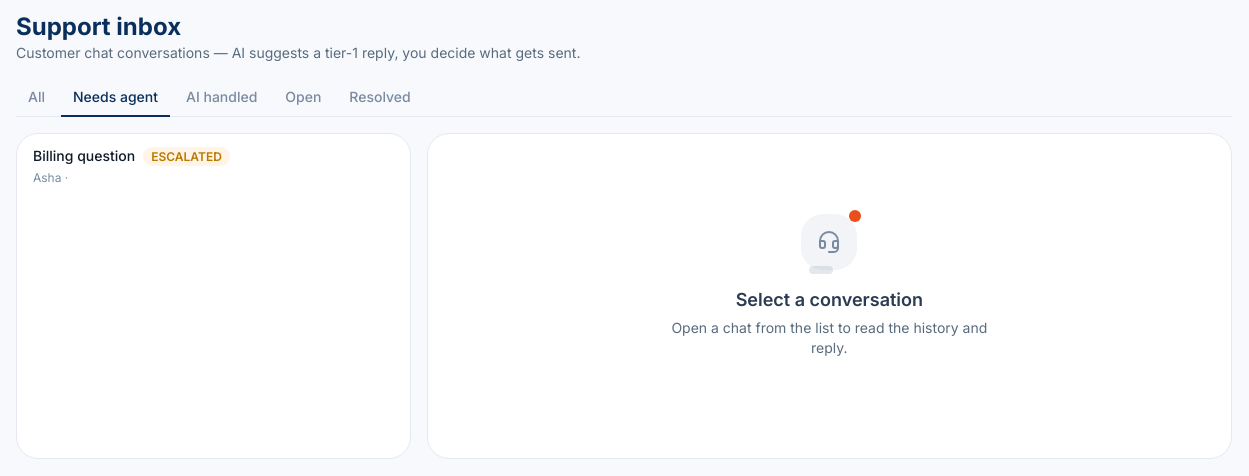
Test: SupportInboxView › shows no review panel when there is nothing waiting
The width and height of the screenshot is (1249, 476).
Click the text "Billing question" at (84, 156), box [33,146,135,166]
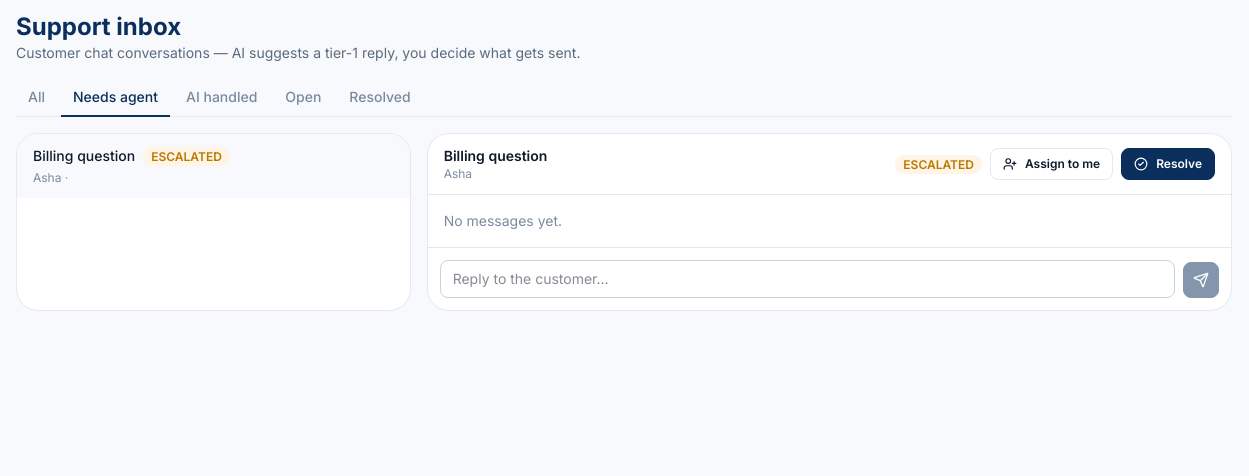
Result: the text "No messages yet." is shown at [444,212,562,229]
